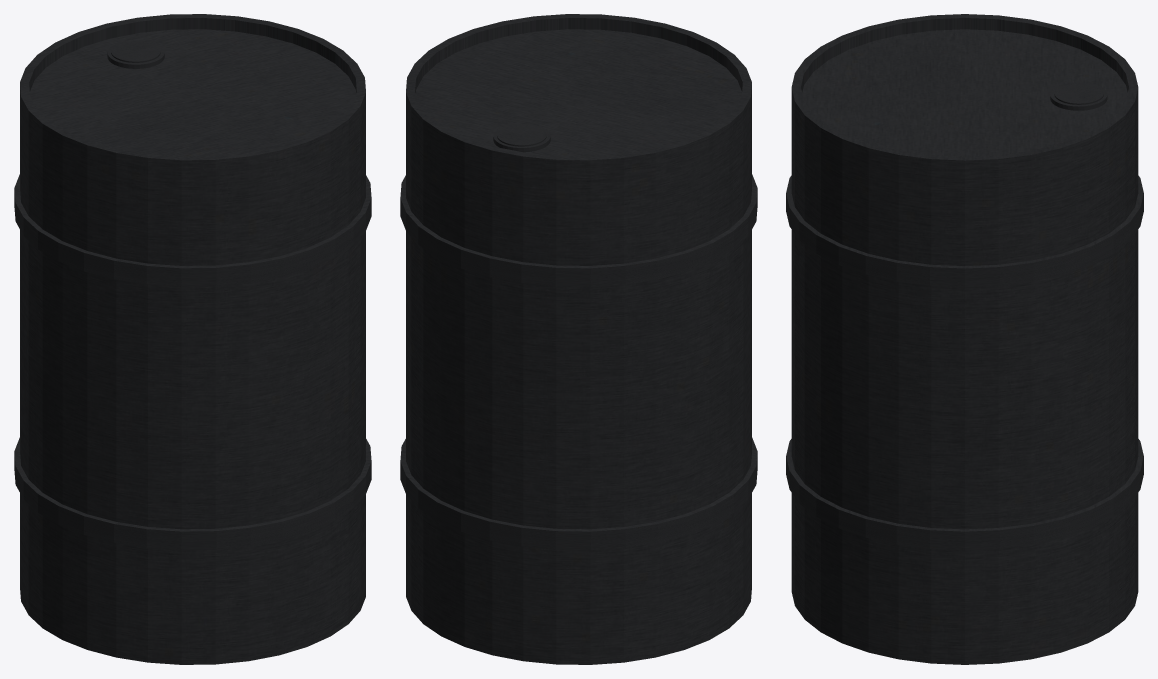
File: barril.glb
The picture shows the model from 3 angles, left to right: view 1: azimuth 30°, elevation 25°; view 2: azimuth 150°, elevation 25°; view 3: azimuth 270°, elevation 25°; orthographic projection.
Visible parts, largest first — view 1: Cylindre; view 2: Cylindre; view 3: Cylindre.
Boxes of the visible parts, box(x1,y1,x2,y2) form: Cylindre: box(14, 14, 371, 664); Cylindre: box(400, 14, 757, 664); Cylindre: box(786, 14, 1143, 664).
Bounding box in the file's own units: 1.06 × 1.65 × 1.06.
1 material, 1 textured.
